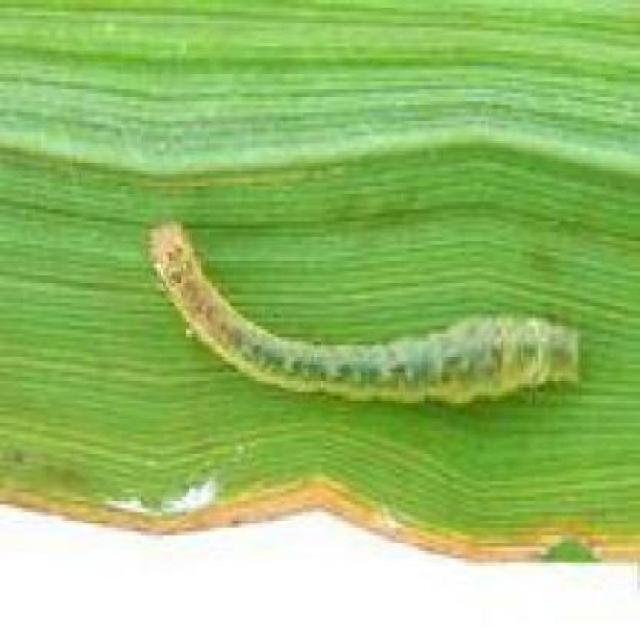leaf-folder: (143, 207, 585, 416)
